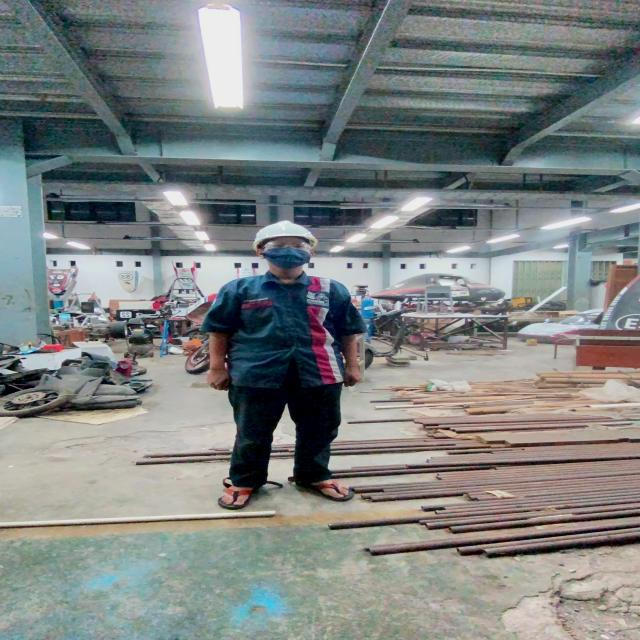face_mask: (262, 239, 315, 268)
glasses: (260, 240, 315, 252)
hand_noglove: (204, 367, 236, 394), (336, 366, 366, 389)
head_helmet: (250, 220, 320, 246)
person: (204, 219, 368, 511)
